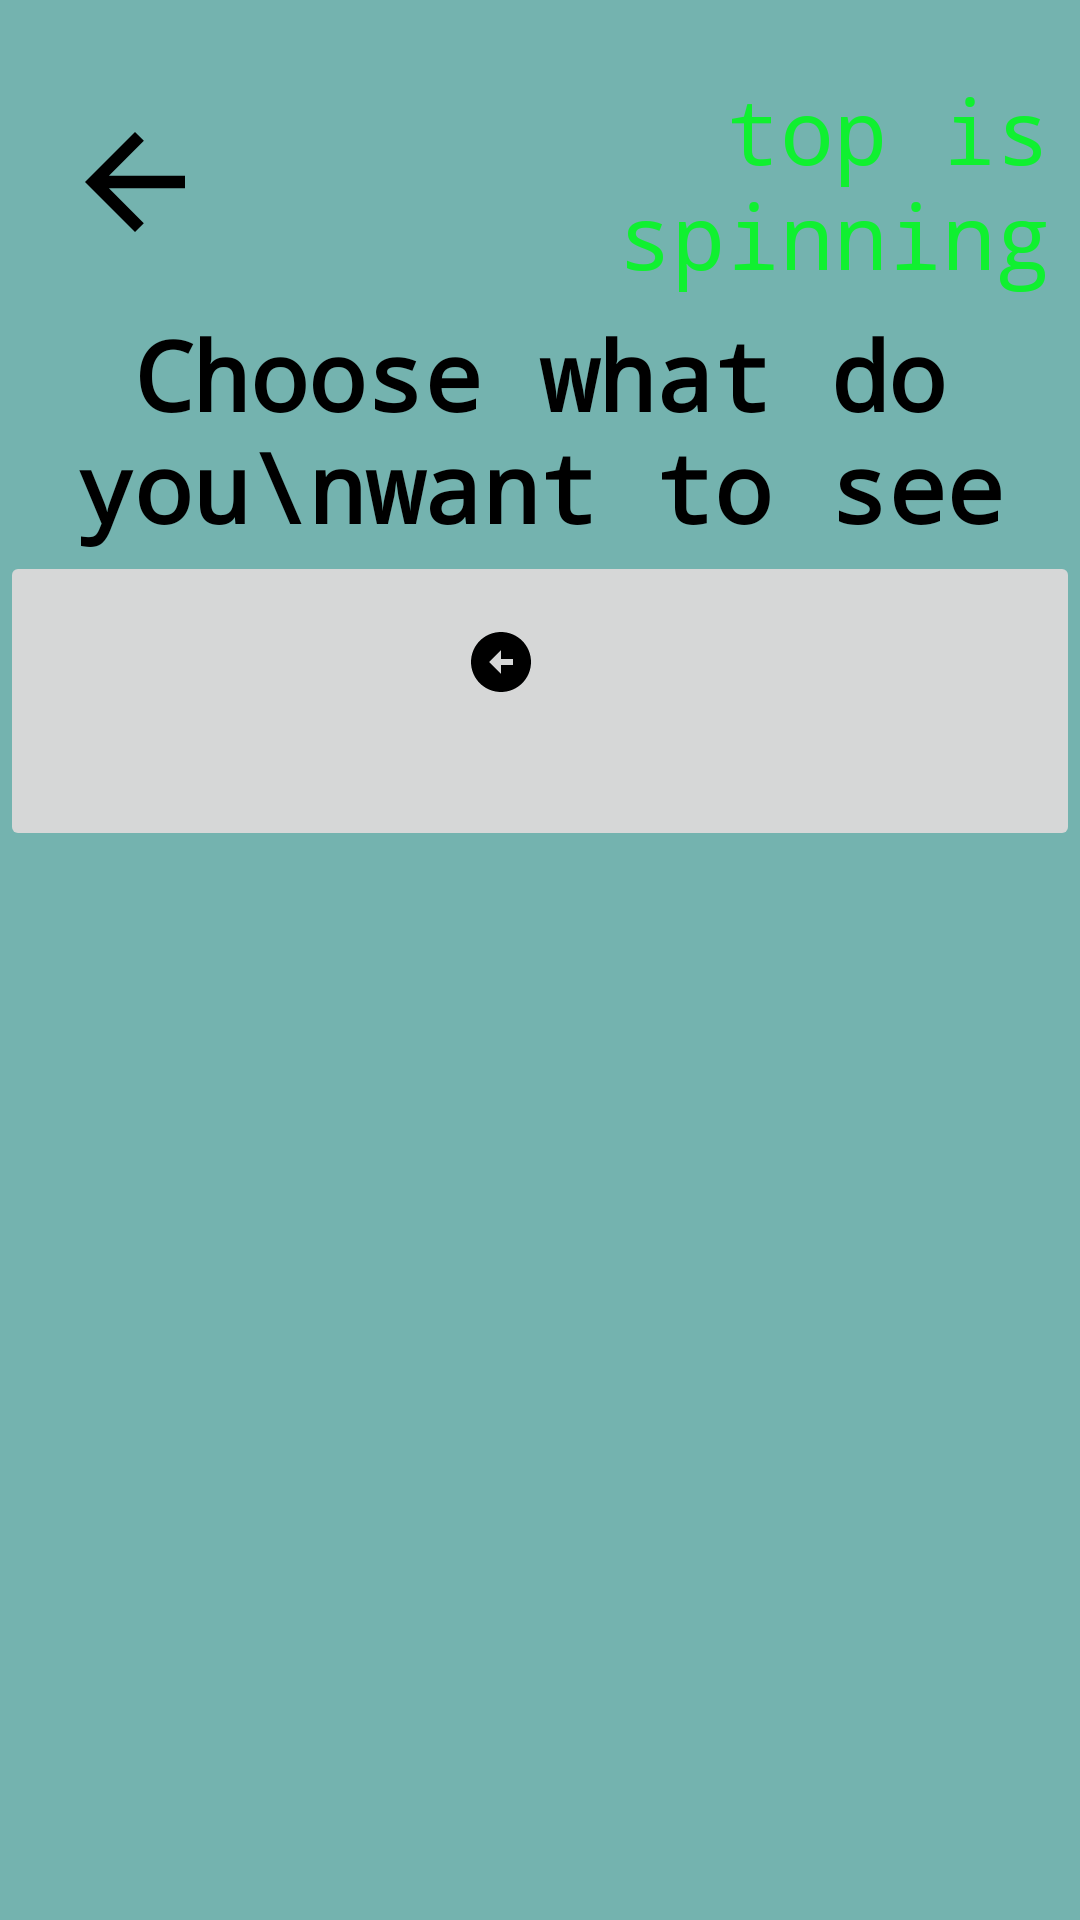

Icons on this 1080 × 1920 Android screen, each with its box as (x1, y1, x2, y2):
back: (85, 132, 185, 232)
